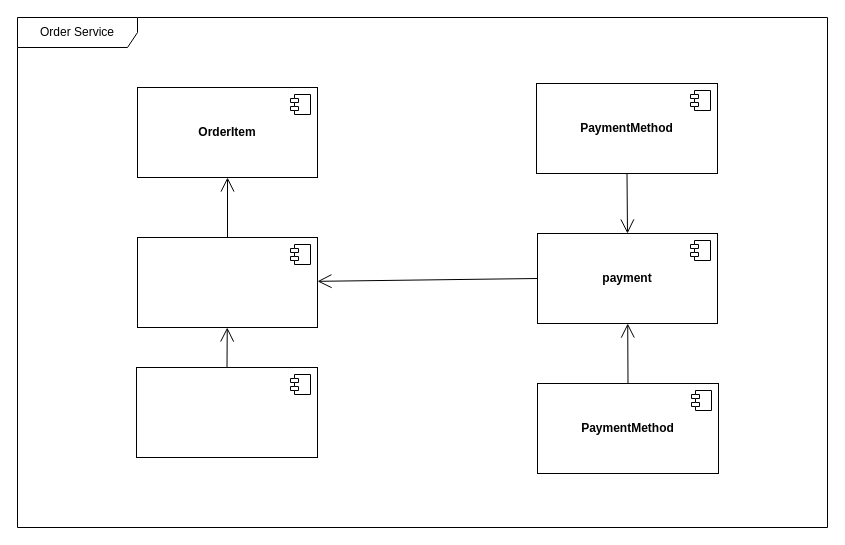
This 845x545 diagram has some shape labels left out. The centre of each missing label's shape, as x and y in pixels:
"Order" goes at (x=227, y=282).
"OrderStatus" goes at (x=227, y=412).
